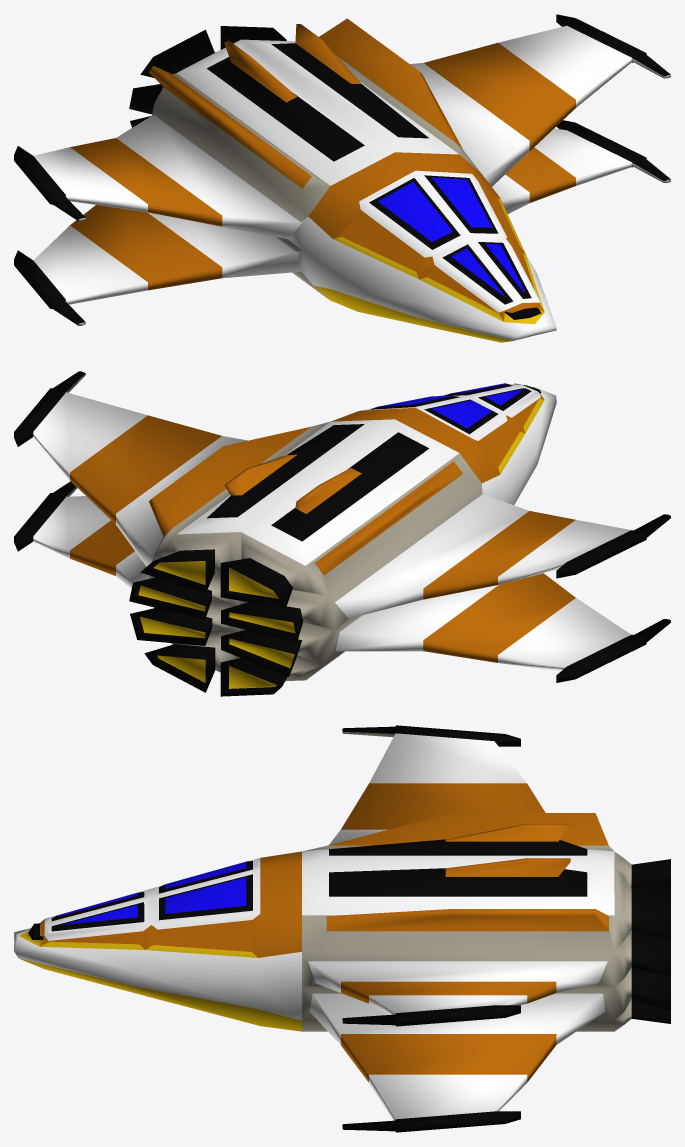
Rendered from ship5.fbx.
The picture shows the model from 3 angles, top to bottom: view 1: azimuth 30°, elevation 25°; view 2: azimuth 150°, elevation 25°; view 3: azimuth 270°, elevation 25°; orthographic projection.
Parts seen in each view (by area): view 1: Cube; view 2: Cube; view 3: Cube.
Part boxes in pixels (x1,y1,x2,y2): Cube: (14,14,670,342); Cube: (14,371,670,696); Cube: (14,725,670,1132).
Bounding box in the file's own units: 478 × 133 × 449.
